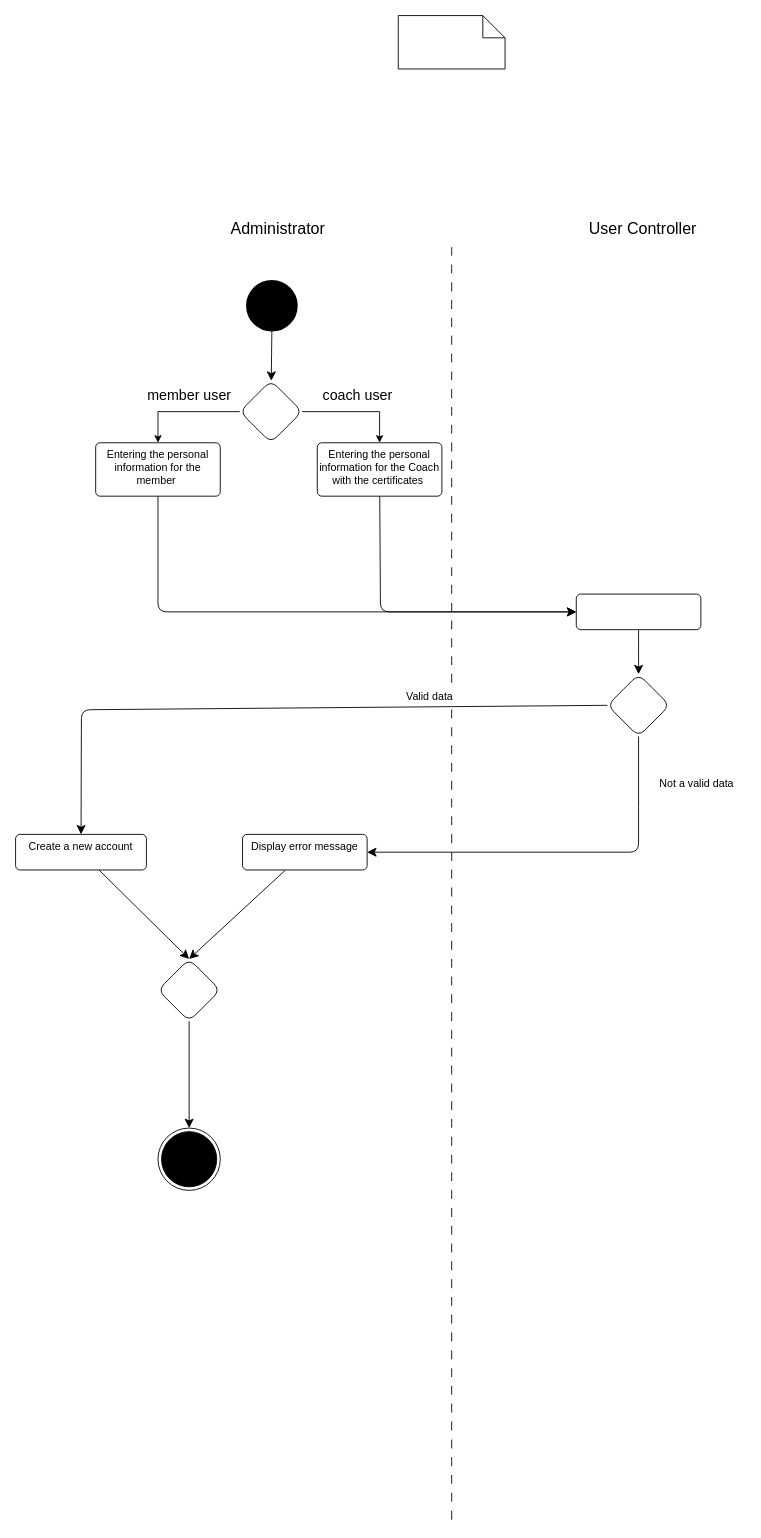
Some shapes in this 761 by 1538 pixel diagram are drawn without their labels. The shapes that lost their labels are listed below. From the top down, each one's centre as x and y in pixels, then its label:
point 451,42: User Registration
point 638,611: Validate the data
